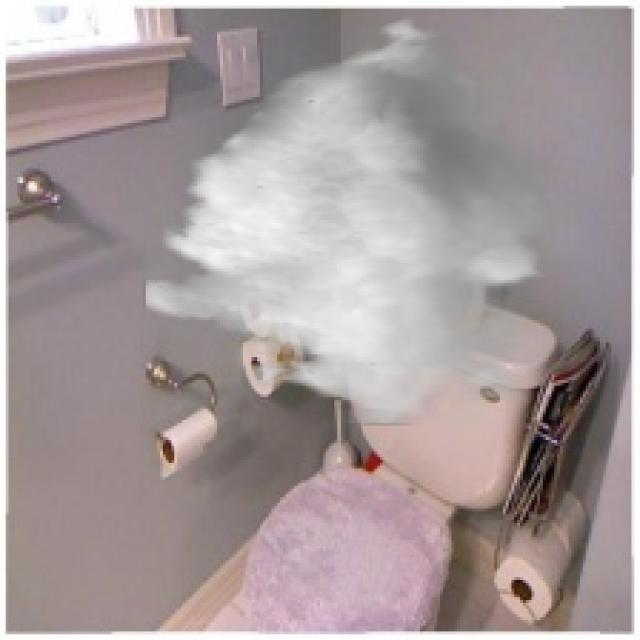smoke: (143, 8, 560, 426)
